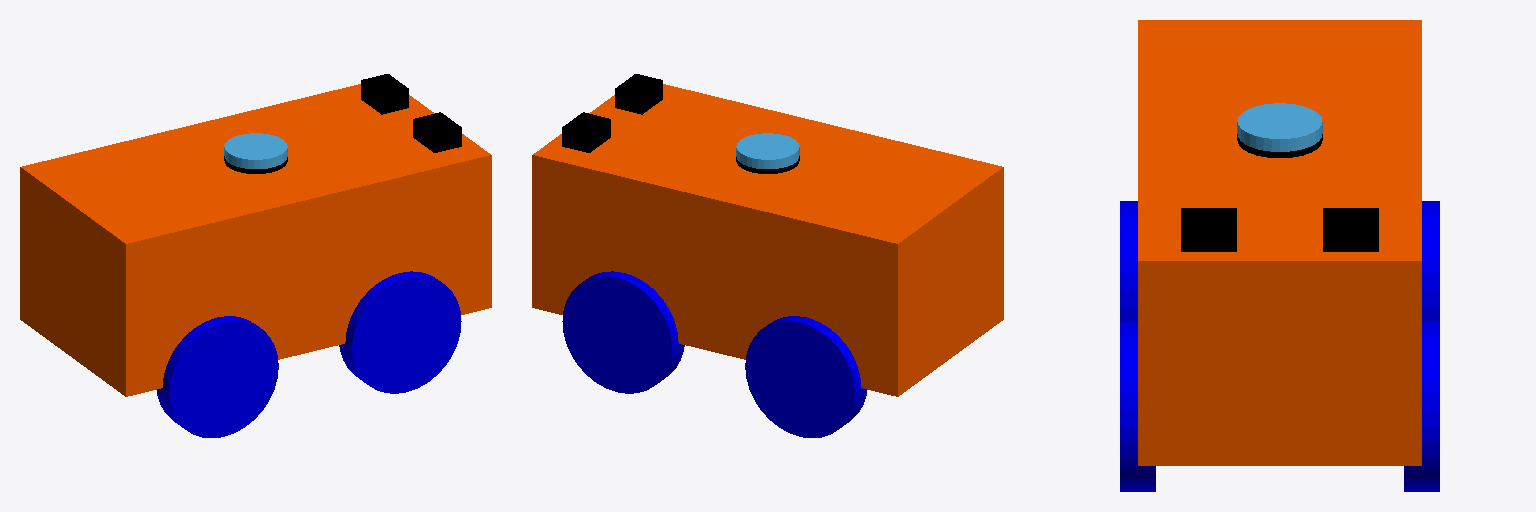
URDF robot description (4wd_test):
<?xml version="1.0" ?>
<robot name="4wd_test">

<link name="base_link">

    <collision>
      <origin xyz="0 0 0" rpy="0 0 0" />
      <geometry>
        <box size="0.40 0.20 0.16"/>
      </geometry>
    </collision>

    <visual>
        <origin xyz=" 0 0 0" rpy="0 0 0" />
        <geometry>
            <box size="0.40 0.20 0.16"/>
        </geometry>
        <material name="yellow">
            <color rgba="1 0.4 0 1"/>
        </material>
    </visual>

</link>


<joint name="dummy_joint" type="fixed">
    <origin xyz="0 0 0" rpy="0 0 0"/>
    <parent link="base_link"/>
    <child link="dummy_link"/>
    <axis xyz="0 0 0"/>
</joint>

<link name="dummy_link">

  <inertial>
    <origin xyz="0 0 0" rpy="0 0 0"/>
    <mass value="10"/>
    <inertia
      ixx="0.05" ixy="0.0" ixz="0.0"
      iyy="0.16" iyz="0.0"
      izz="0.17"/>
  </inertial>

</link>

    <!-- gazebo planar move control -->
<!--<gazebo>
  <plugin name="object_controller" filename="libgazebo_ros_planar_move.so">
    <commandTopic>cmd_vel</commandTopic>
    <odometryTopic>odom</odometryTopic>
    <odometryFrame>odom</odometryFrame>
    <odometryRate>20.0</odometryRate>
    <robotBaseFrame>dummy_link</robotBaseFrame>
  </plugin>
</gazebo>-->


<joint name="left_back_wheel_joint" type="continuous">
    <origin xyz="-0.1 0.1 -0.08" rpy="0 0 0"/>
    <parent link="base_link"/>
    <child link="left_back_wheel_link"/>
    <axis xyz="0 1 0"/>
</joint>

<link name="left_back_wheel_link">

  <collision>
    <origin xyz="0 0 0" rpy="1.5707 0 0" />
    <geometry>
      <cylinder radius="0.06" length = "0.025"/>
    </geometry>
  </collision>

  <visual>
    <origin xyz="0 0 0" rpy="1.5707 0 0" />
     <geometry>
       <cylinder radius="0.06" length = "0.025"/>
     </geometry>
     <material name="blue">
       <color rgba="0 0 1 0.9"/>
     </material>
  </visual>

  <inertial>
    <origin xyz="0 0 0" rpy="1.5707 0 0"/>
    <mass value="0.5"/>
    <inertia
      ixx="0.000153" ixy="0.0" ixz="0.0"
      iyy="0.000249" iyz="0.0"
      izz="0.000153"/>
  </inertial>
</link>


<gazebo reference="left_back_wheel_link">
  <mu1>0.25</mu1>
  <mu2>0.25</mu2>
  <kp>500000.0</kp>
  <kd>10.0</kd>
  <minDepth>0.001</minDepth>
  <maxVel>0.1</maxVel>
  <fdir1>1 0 0</fdir1>
  <material>Gazebo/FlatBlack</material>
</gazebo>

<joint name="right_back_wheel_joint" type="continuous">
    <origin xyz="-0.1 -0.1 -0.08" rpy="0 0 0"/>
    <parent link="base_link"/>
    <child link="right_back_wheel_link"/>
    <axis xyz="0 1 0"/>
</joint>

<link name="right_back_wheel_link">
  <collision>
    <origin xyz="0 0 0" rpy="1.5707 0 0" />
    <geometry>
      <cylinder radius="0.06" length = "0.025"/>
    </geometry>
  </collision>

  <visual>
    <origin xyz="0 0 0" rpy="1.5707 0 0" />
    <geometry>
       <cylinder radius="0.06" length = "0.025"/>
    </geometry>
    <material name="blue">
       <color rgba="0 0 1 0.9"/>
    </material>
  </visual>
    <inertial>
      <origin xyz="0 0 0" rpy="1.5707 0 0"/>
      <mass value="0.5"/>
      <inertia
        ixx="0.000153" ixy="0.0" ixz="0.0"
        iyy="0.000249" iyz="0.0"
        izz="0.000153"/>
    </inertial>
</link>


<gazebo reference="right_back_wheel_link">
  <mu1>0.25</mu1>
  <mu2>0.25</mu2>
  <kp>500000.0</kp>
  <kd>10.0</kd>
  <minDepth>0.001</minDepth>
  <maxVel>0.1</maxVel>
  <fdir1>1 0 0</fdir1>
  <material>Gazebo/FlatBlack</material>
</gazebo>

<joint name="left_front_wheel_joint" type="continuous">
    <origin xyz="0.1 0.1 -0.08" rpy="0 0 0"/>
    <parent link="base_link"/>
    <child link="left_front_wheel_link"/>
    <axis xyz="0 1 0"/>
</joint>

<link name="left_front_wheel_link">

  <collision>
    <origin xyz="0 0 0" rpy="1.5707 0 0" />
    <geometry>
      <cylinder radius="0.06" length = "0.025"/>
    </geometry>
  </collision>

    <visual>
        <origin xyz="0 0 0" rpy="1.5707 0 0" />
        <geometry>
            <cylinder radius="0.06" length = "0.025"/>
        </geometry>
        <material name="blue">
            <color rgba="0 0 1 0.9"/>
        </material>
    </visual>
    <inertial>
      <origin xyz="0 0 0" rpy="1.5707 0 0"/>
      <mass value="0.5"/>
      <inertia
        ixx="0.000153" ixy="0.0" ixz="0.0"
        iyy="0.000249" iyz="0.0"
        izz="0.000153"/>
    </inertial>
</link>


<gazebo reference="left_front_wheel_link">
  <mu1>0.25</mu1>
  <mu2>0.25</mu2>
  <kp>500000.0</kp>
  <kd>10.0</kd>
  <minDepth>0.001</minDepth>
  <maxVel>0.1</maxVel>
  <fdir1>1 0 0</fdir1>
  <material>Gazebo/FlatBlack</material>
</gazebo>

<joint name="right_front_wheel_joint" type="continuous">
    <origin xyz="0.1 -0.1 -0.08" rpy="0 0 0"/>
    <parent link="base_link"/>
    <child link="right_front_wheel_link"/>
    <axis xyz="0 1 0"/>
</joint>

<link name="right_front_wheel_link">

  <collision>
    <origin xyz="0 0 0" rpy="1.5707 0 0" />
    <geometry>
      <cylinder radius="0.06" length = "0.025"/>
    </geometry>
  </collision>

    <visual>
        <origin xyz="0 0 0" rpy="1.5707 0 0" />
        <geometry>
            <cylinder radius="0.06" length = "0.025"/>
        </geometry>
        <material name="blue">
            <color rgba="0 0 1 0.9"/>
        </material>
    </visual>
    <inertial>
      <origin xyz="0 0 0" rpy="1.5707 0 0"/>
      <mass value="0.5"/>
      <inertia
        ixx="0.000153" ixy="0.0" ixz="0.0"
        iyy="0.000249" iyz="0.0"
        izz="0.000153"/>
    </inertial>
</link>


<gazebo reference="right_front_wheel_link">
  <mu1>0.25</mu1>
  <mu2>0.25</mu2>
  <kp>500000.0</kp>
  <kd>10.0</kd>
  <minDepth>0.001</minDepth>
  <maxVel>0.1</maxVel>
  <fdir1>1 0 0</fdir1>
  <material>Gazebo/FlatBlack</material>
</gazebo>

<!-- camera -->

<joint name="left_camera_joint" type="fixed">
    <origin xyz="0.17 -0.05 0.09" rpy="0 0 0"/>
    <parent link="base_link"/>
    <child link="left_camera_link"/>
</joint>


<link name="left_camera_link">
    <visual>
        <origin xyz=" 0 0 0 " rpy="0 0 0" />
        <geometry>
            <box size="0.03 0.04 0.02" />
        </geometry>
        <material name="black">
            <color rgba="0 0 0 0.95"/>
        </material>
    </visual>
    <inertial>
      <origin xyz="0 0 0" rpy="0 0 0"/>
      <mass value="0.1"/>
      <inertia
        ixx="0.000001" ixy="0.0" ixz="0.0"
        iyy="0.000001" iyz="0.0"
        izz="0.000001"/>
    </inertial>
 </link>

<gazebo reference="left_camera_link">
  <sensor type="camera" name="camera1">
    <update_rate>30.0</update_rate>
    <camera name="head">
      <horizontal_fov>1.3962634</horizontal_fov>
      <image>
        <width>800</width>
        <height>800</height>
        <format>R8G8B8</format>
      </image>
      <clip>
        <near>0.02</near>
        <far>300</far>
      </clip>
      <noise>
        <type>gaussian</type>
        <!-- Noise is sampled independently per pixel on each frame.
             That pixel's noise value is added to each of its color
             channels, which at that point lie in the range [0,1]. -->
        <mean>0.0</mean>
        <stddev>0.007</stddev>
      </noise>
    </camera>
    <plugin name="camera_controller" filename="libgazebo_ros_camera.so">
      <alwaysOn>true</alwaysOn>
      <updateRate>0.0</updateRate>
      <cameraName>4wd_test/camera1</cameraName>
      <imageTopicName>image_raw</imageTopicName>
      <cameraInfoTopicName>camera_info</cameraInfoTopicName>
      <frameName>camera_link</frameName>
      <hackBaseline>0.07</hackBaseline>
      <distortionK1>0.0</distortionK1>
      <distortionK2>0.0</distortionK2>
      <distortionK3>0.0</distortionK3>
      <distortionT1>0.0</distortionT1>
      <distortionT2>0.0</distortionT2>
    </plugin>
  </sensor>
</gazebo>


<joint name="right_camera_joint" type="fixed">
    <origin xyz="0.17 0.05 0.09" rpy="0 0 0"/>
    <parent link="base_link"/>
    <child link="right_camera_link"/>
</joint>


<link name="right_camera_link">
    <visual>
        <origin xyz=" 0 0 0 " rpy="0 0 0" />
        <geometry>
            <box size="0.03 0.04 0.02" />
        </geometry>
        <material name="black">
            <color rgba="0 0 0 0.95"/>
        </material>
    </visual>
    <inertial>
      <origin xyz="0 0 0" rpy="0 0 0"/>
      <mass value="0.1"/>
      <inertia
        ixx="0.000001" ixy="0.0" ixz="0.0"
        iyy="0.000001" iyz="0.0"
        izz="0.000001"/>
    </inertial>
</link>

<gazebo reference="right_camera_link">
  <sensor type="camera" name="camera2">
    <update_rate>30.0</update_rate>
    <camera name="head">
      <horizontal_fov>1.3962634</horizontal_fov>
      <image>
        <width>800</width>
        <height>800</height>
        <format>R8G8B8</format>
      </image>
      <clip>
        <near>0.02</near>
        <far>300</far>
      </clip>
      <noise>
        <type>gaussian</type>
        <!-- Noise is sampled independently per pixel on each frame.
             That pixel's noise value is added to each of its color
             channels, which at that point lie in the range [0,1]. -->
        <mean>0.0</mean>
        <stddev>0.007</stddev>
      </noise>
    </camera>
    <plugin name="camera_controller" filename="libgazebo_ros_camera.so">
      <alwaysOn>true</alwaysOn>
      <updateRate>0.0</updateRate>
      <cameraName>4wd_test/camera2</cameraName>
      <imageTopicName>image_raw</imageTopicName>
      <cameraInfoTopicName>camera_info</cameraInfoTopicName>
      <frameName>camera_link</frameName>
      <hackBaseline>0.07</hackBaseline>
      <distortionK1>0.0</distortionK1>
      <distortionK2>0.0</distortionK2>
      <distortionK3>0.0</distortionK3>
      <distortionT1>0.0</distortionT1>
      <distortionT2>0.0</distortionT2>
    </plugin>
  </sensor>
</gazebo>

<!-- sensor -->

<!--<joint name="laser_joint" type="fixed">
    <origin xyz="0 0 0.105" rpy="0 0 0"/>
    <parent link="base_link"/>
    <child link="laser_link"/>
</joint>-->


<!--<link name="laser_link">
    <visual>
        <origin xyz=" 0 0 0 " rpy="0 0 0" />
        <geometry>
            <cylinder length="0.05" radius="0.05"/>
        </geometry>
        <material name="black"/>
    </visual>
    <inertial>
      <origin xyz="0 0 0" rpy="0 0 0"/>
      <mass value="0.1"/>
      <inertia
        ixx="0.1" ixy="0.0" ixz="0.0"
        iyy="0.1" iyz="0.0"
        izz="0.1"/>
    </inertial>
</link>-->

<!--<gazebo reference="laser_link">-->
<!-- Add a ray sensor, and give it a name -->
<!--<sensor type="ray" name="sensor">-->

  <!-- Position the ray sensor based on the specification. Also rotate
       it by 90 degrees around the X-axis so that the <horizontal> rays
       become vertical -->
<!--  <pose>0 0 -0.004645 1.5707 0 0</pose>-->

  <!-- Enable visualization to see the rays in the GUI -->
<!--  <visualize>true</visualize>-->

  <!-- Set the update rate of the sensor -->
<!--  <update_rate>30</update_rate>-->
<!--  <ray>-->

    <!-- The scan element contains the horizontal and vertical beams.
         We are leaving out the vertical beams for this tutorial. -->
<!--    <scan>-->

      <!-- The horizontal beams -->
<!--      <horizontal>-->
        <!-- The velodyne has 32 beams(samples) -->
<!--        <samples>32</samples>-->

        <!-- Resolution is multiplied by samples to determine number of
             simulated beams vs interpolated beams. See:
             http://sdformat.org/spec?ver=1.6&elem=sensor#horizontal_resolution
             -->
<!--        <resolution>1</resolution>-->

        <!-- Minimum angle in radians -->
<!--        <min_angle>-0.53529248</min_angle>-->

        <!-- Maximum angle in radians -->
<!--        <max_angle>0.18622663</max_angle>
      </horizontal>
    </scan>-->

    <!-- Range defines characteristics of an individual beam -->
<!--    <range>-->

      <!-- Minimum distance of the beam -->
<!--      <min>0.05</min>-->

      <!-- Maximum distance of the beam -->
<!--      <max>70</max>-->

      <!-- Linear resolution of the beam -->
<!--      <resolution>0.02</resolution>
    </range>
  </ray>
</sensor>
</gazebo>-->

<!-- imu sensor -->
<joint name="imu_joint" type="fixed">
    <origin xyz="0 0 0.08" rpy="0 0 0"/>
    <parent link="base_link"/>
    <child link="imu_link"/>
</joint>


<link name="imu_link">
    <visual>
        <origin xyz=" 0 0 0 " rpy="0 0 0" />
        <geometry>
            <cylinder length="0.01" radius="0.03"/>
        </geometry>
        <material name="black"/>
    </visual>
    <inertial>
      <origin xyz="0 0 0" rpy="0 0 0"/>
      <mass value="0.1"/>
      <inertia
        ixx="0.000001" ixy="0.0" ixz="0.0"
        iyy="0.000001" iyz="0.0"
        izz="0.000001"/>
    </inertial>
</link>

<gazebo reference="imu_link">
  <gravity>true</gravity>
  <sensor name="imu_sensor" type="imu">
    <always_on>true</always_on>
    <update_rate>50.0</update_rate>
    <visualize>true</visualize>
    <topic>imu</topic>
    <plugin filename="libgazebo_ros_imu_sensor.so" name="imu_plugin">
      <robotNamespace>/4wd_test</robotNamespace>
      <topicName>imu</topicName>
      <bodyName>imu_link</bodyName>
      <updateRateHZ>50.0</updateRateHZ>
      <gaussianNoise>0.0</gaussianNoise>
      <xyzOffset>0 0 0</xyzOffset>
      <rpyOffset>0 0 0</rpyOffset>
      <frameName>imu_link</frameName>
    </plugin>
    <pose>0 0 0 0 0 0</pose>
  </sensor>
</gazebo>

<!-- GPS -->

<joint name="gps_joint" type="fixed">
    <origin xyz="0 0 0.09" rpy="0 0 0"/>
    <parent link="base_link"/>
    <child link="gps_link"/>
</joint>


<link name="gps_link">
    <visual>
        <origin xyz=" 0 0 0 " rpy="0 0 0" />
        <geometry>
            <cylinder length="0.01" radius="0.03"/>
        </geometry>
        <material name="white"/>
    </visual>
</link>

<gazebo>
    <plugin name="gps" filename="libhector_gazebo_ros_gps.so">
        <robotNamespace>/4wd_test</robotNamespace>
        <alwaysOn>1</alwaysOn>
        <updateRate>10</updateRate>
        <bodyName>gps_link</bodyName>
        <frameId>gps_link</frameId>
        <referenceHeading>-90</referenceHeading>
        <topicName>fix</topicName>
        <velocityTopicName>fix_velocity</velocityTopicName>
        <drift>0.0 0.0 0.0</drift>
        <gaussianNoise>0.1 0.1 0.1</gaussianNoise>
        <velocityDrift>0 0 0</velocityDrift>
        <velocityGaussianNoise>0.1 0.1 0.1</velocityGaussianNoise>
    </plugin>
</gazebo>

<!-- gazebo_ros_control and transmission -->
<gazebo>
    <plugin name="gazebo_ros_control" filename="libgazebo_ros_control.so">
        <robotNamespace>/4wd_test</robotNamespace>
    </plugin>
</gazebo>

<!-- gazebo skid_steer drive-->
<!--<gazebo>
  <plugin name="skid_steer_drive_controller" filename="libgazebo_ros_skid_steer_drive.so">
    <updateRate>100.0</updateRate>
    <robotNamespace>/</robotNamespace>
    <commandTopic>cmd_vel</commandTopic>
    <odometryTopic>odom</odometryTopic>
    <odometryFrame>odom</odometryFrame>
    <leftFrontJoint>left_front_wheel_joint</leftFrontJoint>
    <rightFrontJoint>right_front_wheel_joint</rightFrontJoint>
    <leftRearJoint>left_back_wheel_joint</leftRearJoint>
    <rightRearJoint>right_back_wheel_joint</rightRearJoint>
    <wheelSeparation>0.2</wheelSeparation>
    <wheelDiameter>0.06</wheelDiameter>
    <robotBaseFrame>base_link</robotBaseFrame>
    <torque>20</torque>
    <topicName>cmd_vel</topicName>
    <broadcastTF>false</broadcastTF>
  </plugin>
</gazebo>-->

<!--<gazebo>
  <plugin name="differential_drive_controller" filename="libgazebo_ros_diff_drive.so">
    <updateRate>50</updateRate>
    <leftJoint>left_front_wheel_joint</leftJoint>
   <rightJoint>right_front_wheel_joint</rightJoint>
    <wheelSeparation>0.2</wheelSeparation>
    <wheelDiameter>0.06</wheelDiameter>
    <wheelAcceleration>1.0</wheelAcceleration>
    <wheelTorque>20</wheelTorque>
    <commandTopic>cmd_vel</commandTopic>
    <odometryTopic>odom</odometryTopic>
    <odometryFrame>odom</odometryFrame>
    <robotBaseFrame>base_link</robotBaseFrame>
    <odometrySource>1</odometrySource>
    <publishWheelTF>true</publishWheelTF>
    <publishOdom>true</publishOdom>
    <publishWheelJointState>true</publishWheelJointState>
    <legacyMode>false</legacyMode>
  </plugin>
</gazebo>-->


<transmission name="left_back_wheel_tran">
  <type>transmission_interface/SimpleTransmission</type>
  <joint name="left_back_wheel_joint">
    <hardwareInterface>VelocityJointInterface</hardwareInterface>
  </joint>
  <actuator name="left_back_wheel_motor">
    <hardwareInterface>VelocityJointInterface</hardwareInterface>
    <mechanicalReduction>1</mechanicalReduction>
  </actuator>
</transmission>

<transmission name="right_back_wheel_tran">
  <type>transmission_interface/SimpleTransmission</type>
  <joint name="right_back_wheel_joint">
    <hardwareInterface>VelocityJointInterface</hardwareInterface>
  </joint>
  <actuator name="right_back_wheel_motor">
    <hardwareInterface>VelocityJointInterface</hardwareInterface>
    <mechanicalReduction>1</mechanicalReduction>
  </actuator>
</transmission>

<transmission name="left_front_wheel_tran">
  <type>transmission_interface/SimpleTransmission</type>
  <joint name="left_front_wheel_joint">
    <hardwareInterface>VelocityJointInterface</hardwareInterface>
  </joint>
  <actuator name="left_front_wheel_motor">
    <hardwareInterface>VelocityJointInterface</hardwareInterface>
    <mechanicalReduction>1</mechanicalReduction>
  </actuator>
</transmission>

<transmission name="right_front_wheel_tran">
  <type>transmission_interface/SimpleTransmission</type>
  <joint name="right_front_wheel_joint">
    <hardwareInterface>VelocityJointInterface</hardwareInterface>
  </joint>
  <actuator name="right_front_wheel_motor">
    <hardwareInterface>VelocityJointInterface</hardwareInterface>
    <mechanicalReduction>1</mechanicalReduction>
  </actuator>
</transmission>

</robot>

--- Facts derived from the render (not from the file) ---
3 views of the same robot in one strip: view 1: azimuth 30°, elevation 25°; view 2: azimuth 150°, elevation 25°; view 3: azimuth 270°, elevation 25° (orthographic).
Robot: 4wd_test — 10 links, 9 joints (4 continuous, 5 fixed); root link base_link; default pose: every joint at zero.
Links seen in each view (by area): view 1: base_link, right_front_wheel_link, right_back_wheel_link, gps_link, left_camera_link, right_camera_link; view 2: base_link, left_front_wheel_link, left_back_wheel_link, gps_link, right_camera_link, left_camera_link; view 3: base_link, left_front_wheel_link, right_front_wheel_link, gps_link, left_camera_link, right_camera_link, left_back_wheel_link, right_back_wheel_link, imu_link.
Boxes of the visible links, left/top/right/bottom form: base_link: left=20, top=84, right=491, bottom=396; right_front_wheel_link: left=339, top=271, right=461, bottom=393; right_back_wheel_link: left=157, top=316, right=278, bottom=437; gps_link: left=224, top=133, right=287, bottom=168; left_camera_link: left=413, top=112, right=461, bottom=152; right_camera_link: left=361, top=74, right=408, bottom=114; base_link: left=532, top=84, right=1003, bottom=396; left_front_wheel_link: left=562, top=271, right=684, bottom=393; left_back_wheel_link: left=745, top=316, right=866, bottom=437; gps_link: left=736, top=133, right=799, bottom=168; right_camera_link: left=562, top=112, right=610, bottom=152; left_camera_link: left=615, top=74, right=662, bottom=114; base_link: left=1138, top=20, right=1421, bottom=465; left_front_wheel_link: left=1404, top=321, right=1439, bottom=491; right_front_wheel_link: left=1120, top=321, right=1155, bottom=491; gps_link: left=1237, top=103, right=1322, bottom=151; left_camera_link: left=1181, top=208, right=1236, bottom=251; right_camera_link: left=1323, top=208, right=1378, bottom=251; left_back_wheel_link: left=1422, top=201, right=1439, bottom=320; right_back_wheel_link: left=1120, top=201, right=1137, bottom=320; imu_link: left=1237, top=134, right=1322, bottom=157.
Size in the robot's own frame: 0.4 by 0.225 by 0.24 metres.
Geometry: primitives only (box / cylinder / sphere), no mesh files.